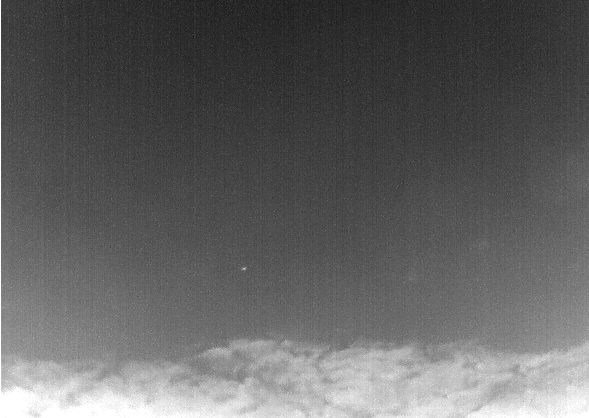dim target: (241, 266, 247, 271)
